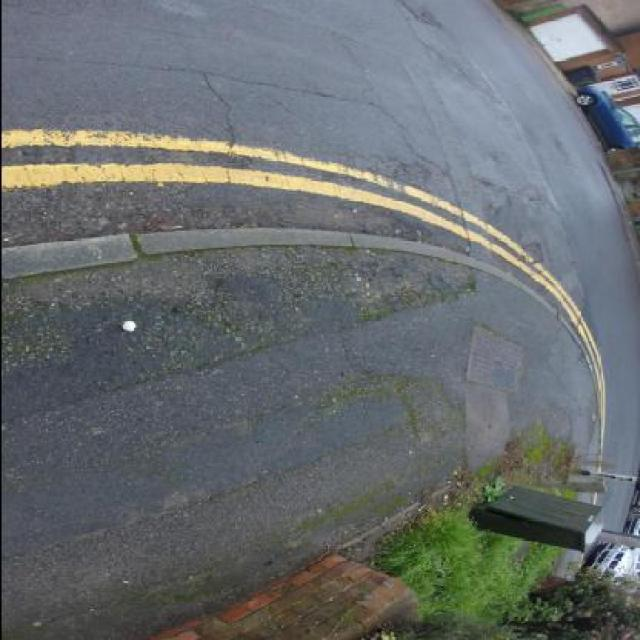metal: (120, 320, 135, 332)
